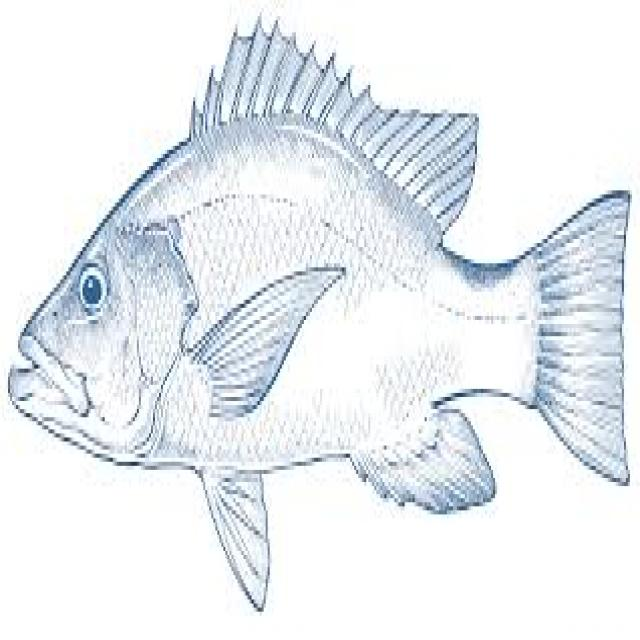northern-red-snapper: (2, 0, 640, 613)
